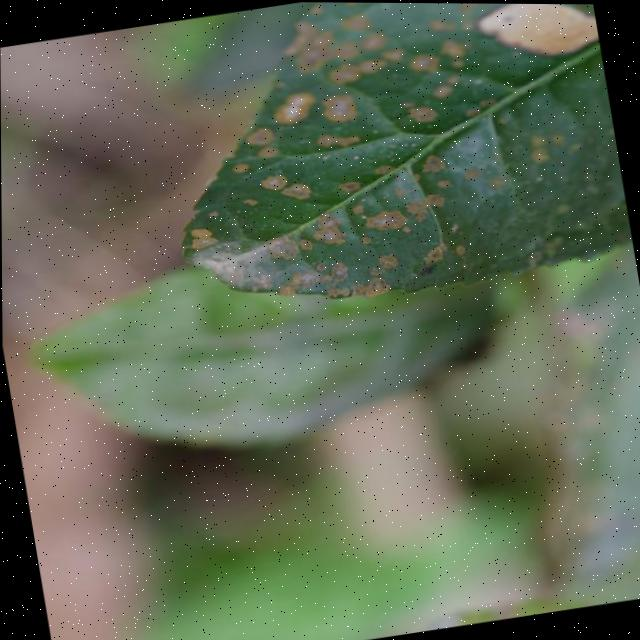Tea algae leaf spot: (163, 6, 539, 302)
